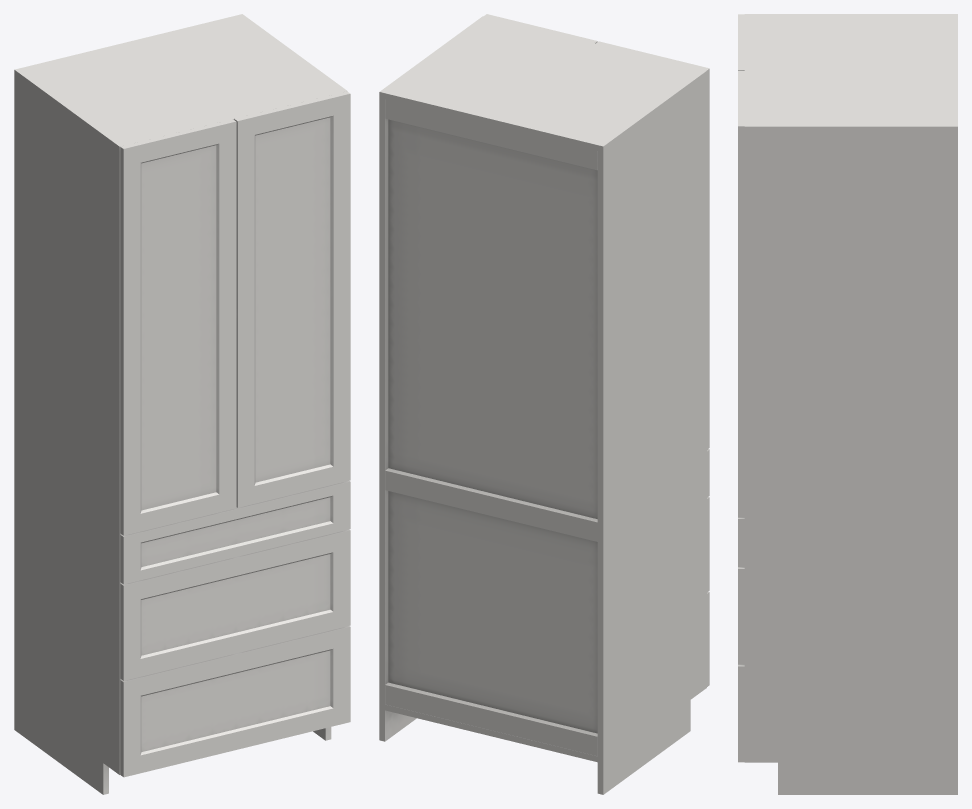
The model's file is tall-2-door-3-drawer-doors-on.glb.
3 renders of one model, left to right at view 1: azimuth 30°, elevation 25°; view 2: azimuth 150°, elevation 25°; view 3: azimuth 270°, elevation 25°, orthographic. The views are drawn at different scales.
Visible parts, largest first — view 1: part_15, part_0; view 2: part_0, part_15; view 3: part_0, part_15.
Boxes of the visible parts, x1,y1,x2,y2 form: part_15: (120,91,350,777); part_0: (14,14,347,794); part_0: (379,16,706,794); part_15: (484,14,709,686); part_0: (744,14,957,794); part_15: (738,14,744,762).
Bounding box in the file's own units: 0.7621 × 2.11 × 0.6287.
Materials: 3 (2 with a texture image).
